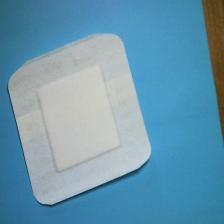Dressing: (8, 34, 154, 211)
